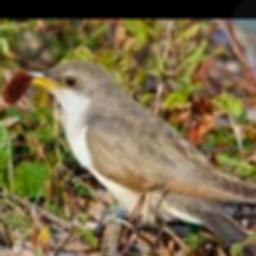Cuckoo: (26, 61, 256, 256)
